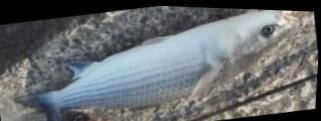fish: (20, 8, 285, 121)
